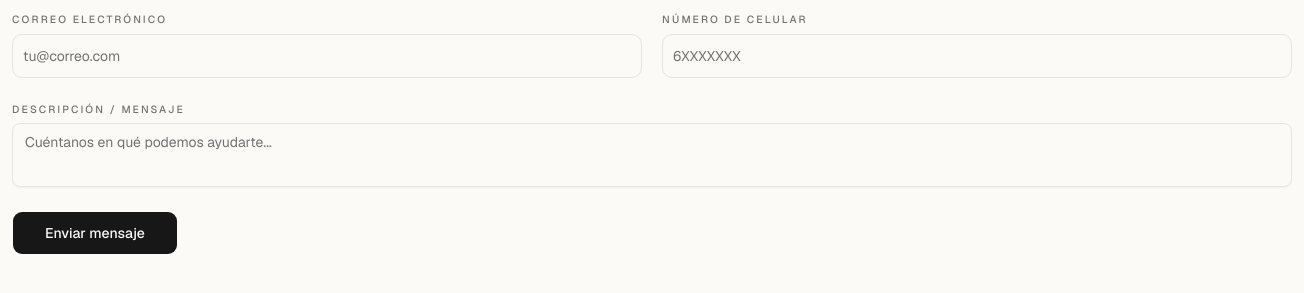
ContactForm — validaciones › muestra error con celular inválido
In the field labelled "Correo electrónico": (327, 56) [12, 34, 642, 78], type "usuario@ejemplo.com"
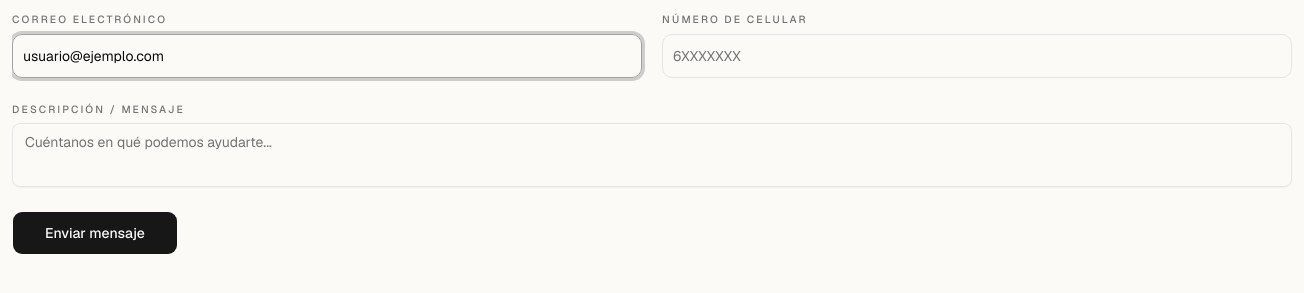
In the field labelled "Número de celular": (977, 56) [662, 34, 1292, 78], type "71234567"
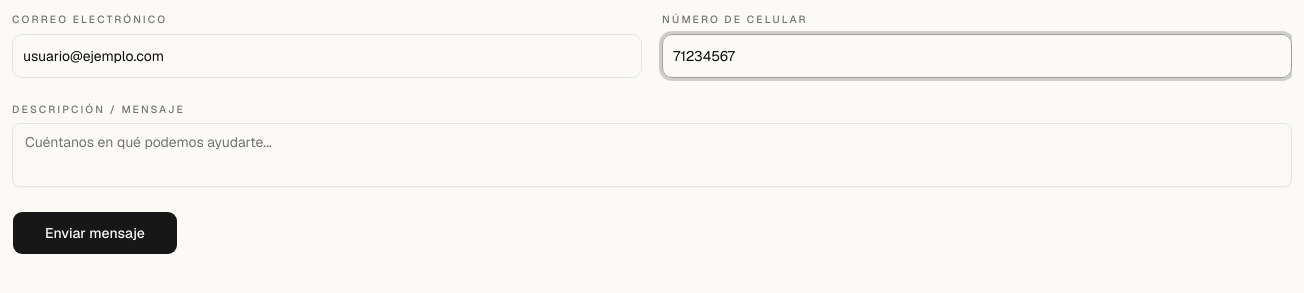
In the text box labelled "Descripción / Mensaje": (652, 155) [12, 123, 1292, 187], type "Mensaje de prueba con suficientes caracteres"
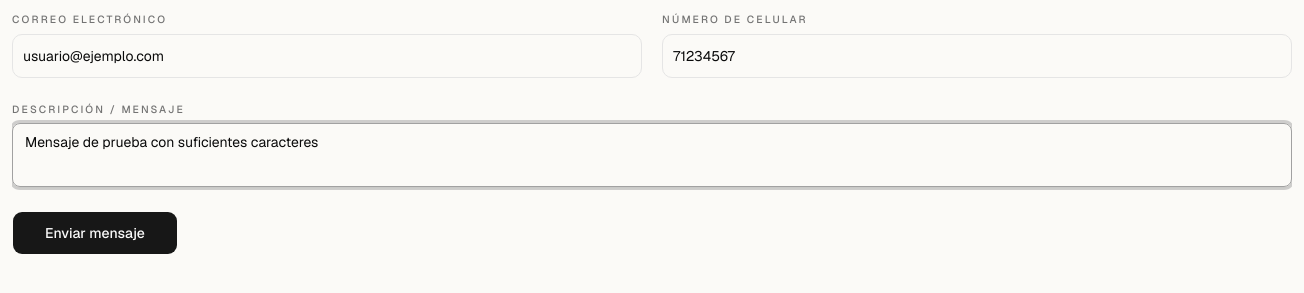
Click the button "Enviar mensaje": (95, 233) [12, 211, 178, 255]
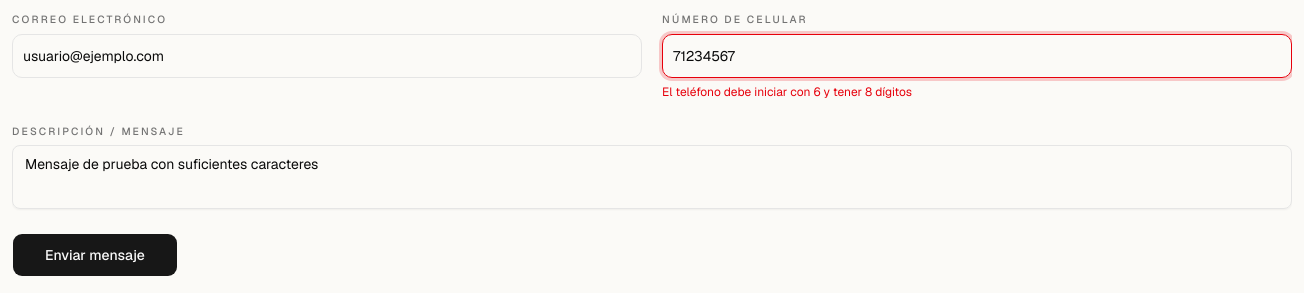
Result: the text "El teléfono debe iniciar con 6 y tener 8 dígitos" is shown at [662, 84, 912, 100]
